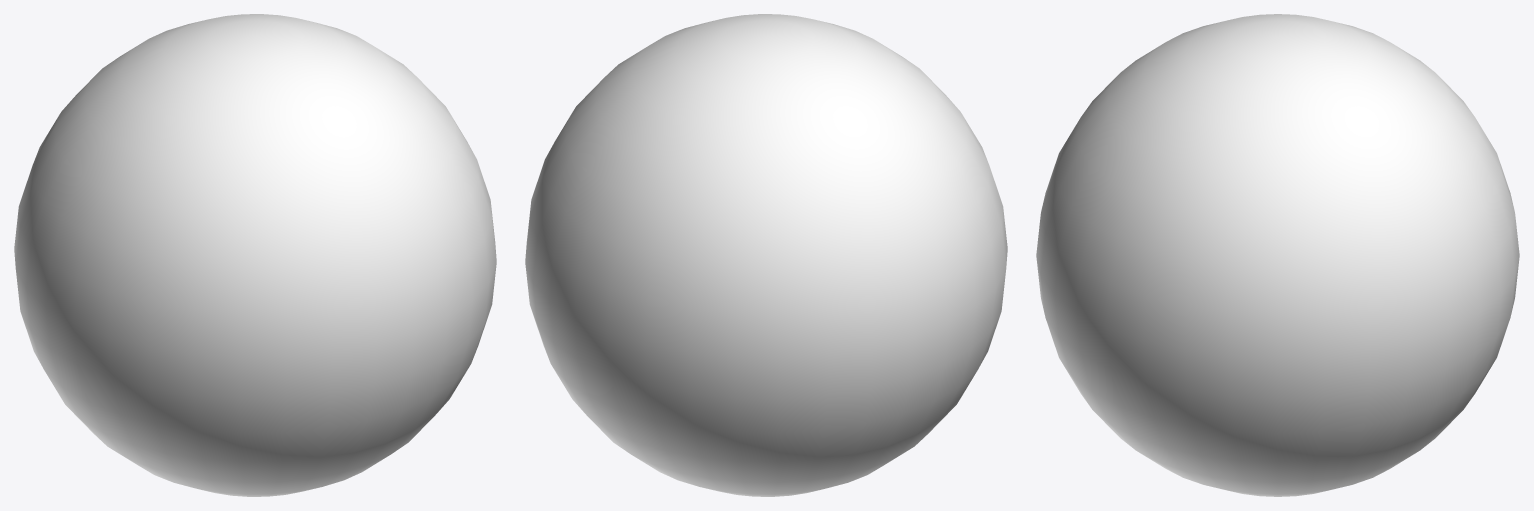
Rendered from paper_airplane.fbx.
3 renders of one model, left to right at view 1: azimuth 30°, elevation 25°; view 2: azimuth 150°, elevation 25°; view 3: azimuth 270°, elevation 25°, orthographic.
Parts seen in each view (by area): view 1: bubble; view 2: bubble; view 3: bubble.
Part boxes in pixels (x1,y1,x2,y2): bubble: (14,14,496,496); bubble: (525,14,1007,496); bubble: (1036,14,1519,496).
Size of the model in its own units: 238 by 238 by 238.
2 materials, 1 textured.
